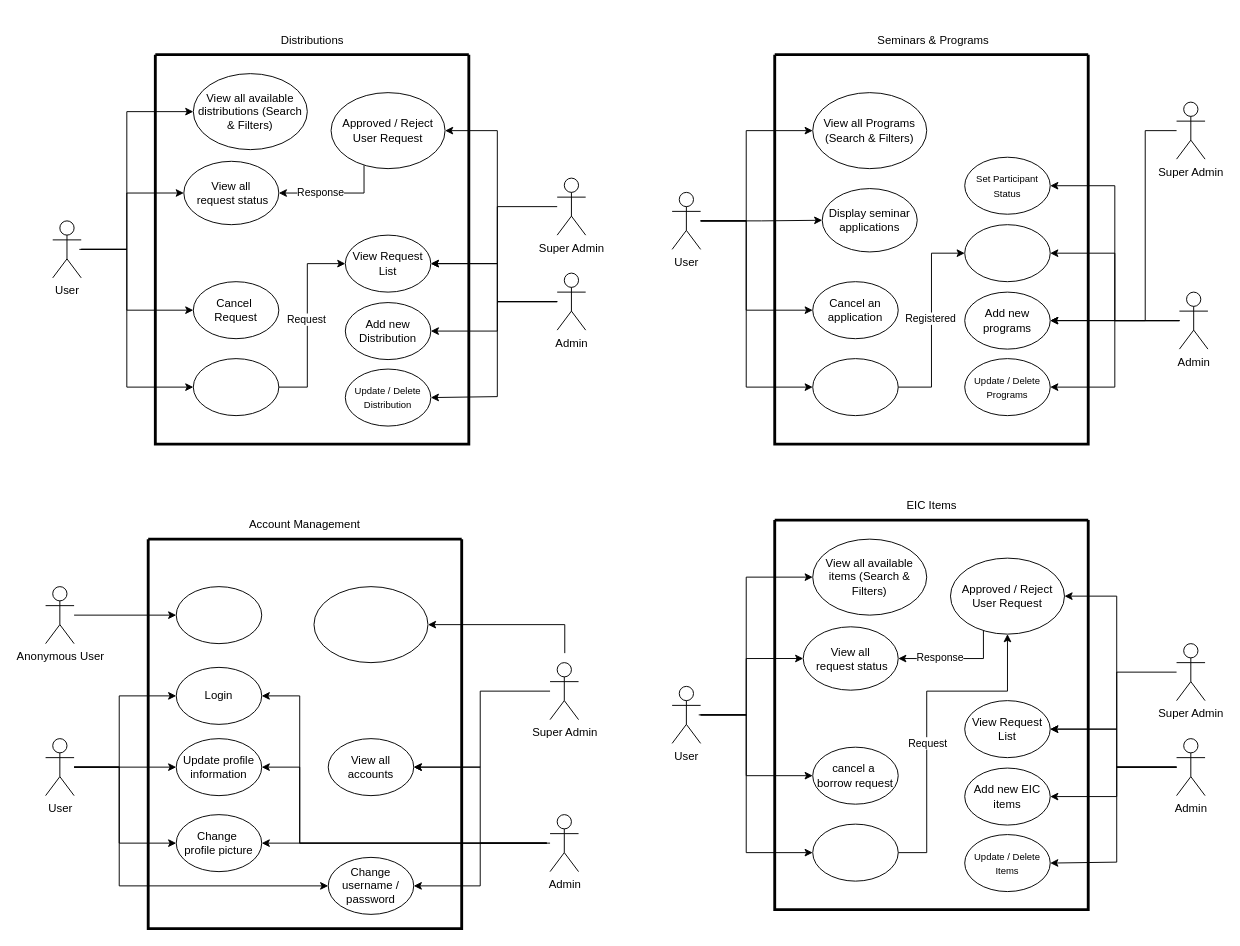
The diagram is 1240 pixels wide and 946 high, and some of its shapes have lost their labels. Here are the shapes that lost their labels. From the top down, the centre of each, then its label:
(1007,253): View Participants
(235,387): Reserve for a distribution
(855,387): Apply to a Program
(218,615): Register an Account
(370,624): All account access (Edit, Update, Delete)
(855,852): Borrow an EIC item
